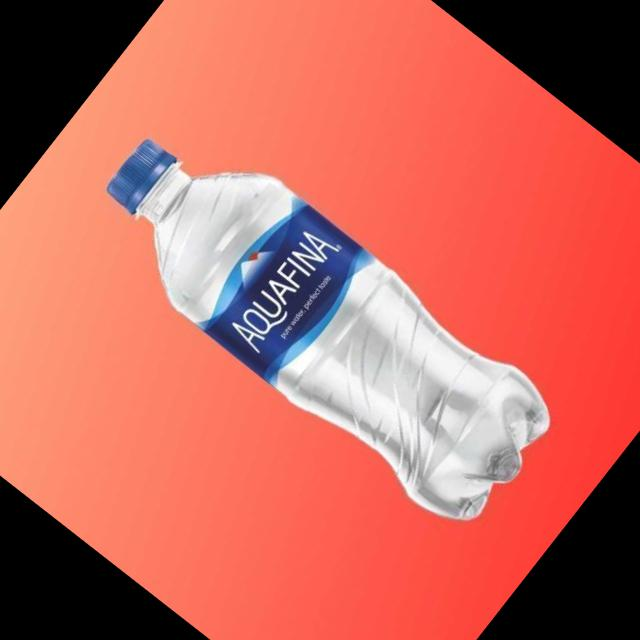BotolPlastik: (68, 98, 572, 544)
